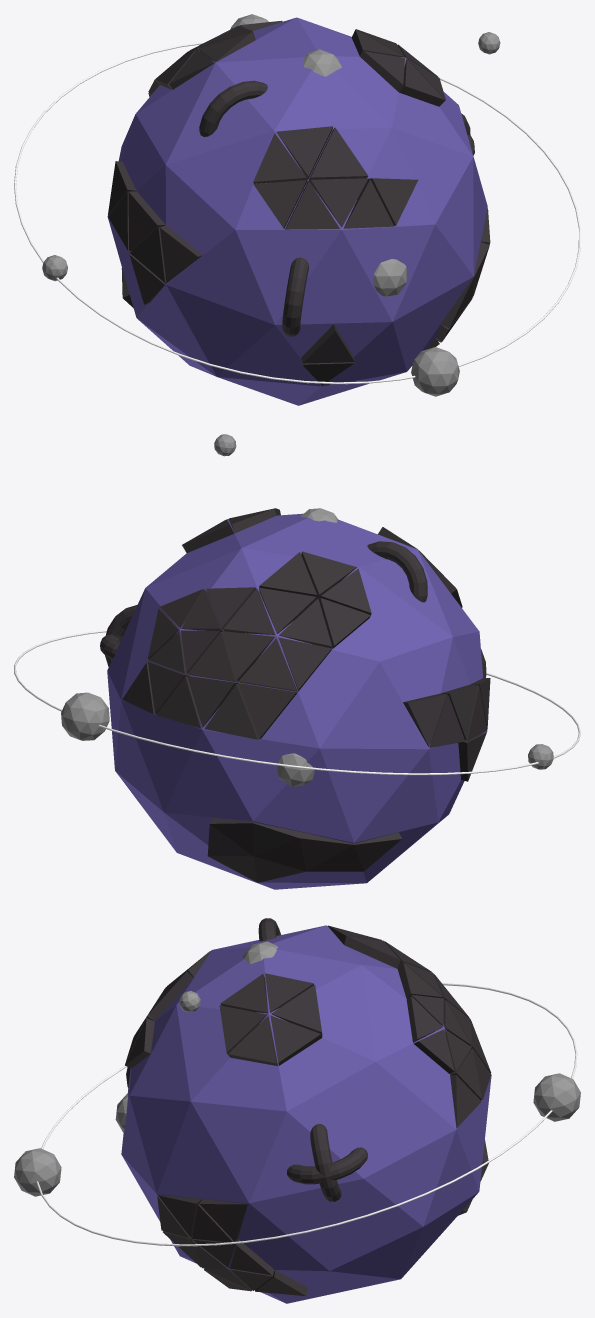
The model's file is purple_planet.gltf.
The picture shows the model from 3 angles, top to bottom: view 1: azimuth 30°, elevation 25°; view 2: azimuth 150°, elevation 25°; view 3: azimuth 270°, elevation 25°; orthographic projection. The views are drawn at different scales.
Visible parts, largest first — view 1: Icosphere.008, Icosphere, Torus.002, Icosphere.001, Torus.004, Torus.005, Icosphere.006, Icosphere.005, Icosphere.003; view 2: Icosphere.008, Icosphere, Torus.002, Icosphere.004, Torus.004, Icosphere.007, Torus.001; view 3: Icosphere.008, Icosphere, Torus.002, Icosphere.004, Icosphere.001, Torus.003, Torus.001, Icosphere.005.
Part boxes in pixels (x1=…): Icosphere.008: x1=107, y1=17, x2=487, y2=405; Icosphere: x1=108, y1=20, x2=490, y2=385; Torus.002: x1=14, y1=41, x2=580, y2=384; Icosphere.001: x1=411, y1=347, x2=459, y2=396; Torus.004: x1=199, y1=80, x2=267, y2=136; Torus.005: x1=282, y1=257, x2=308, y2=336; Icosphere.006: x1=373, y1=259, x2=407, y2=296; Icosphere.005: x1=303, y1=49, x2=341, y2=76; Icosphere.003: x1=42, y1=255, x2=67, y2=281; Icosphere.008: x1=107, y1=513, x2=487, y2=889; Icosphere: x1=122, y1=508, x2=490, y2=882; Torus.002: x1=14, y1=630, x2=580, y2=775; Icosphere.004: x1=61, y1=692, x2=109, y2=740; Torus.004: x1=367, y1=541, x2=427, y2=602; Icosphere.007: x1=277, y1=753, x2=314, y2=786; Torus.001: x1=105, y1=604, x2=137, y2=666; Icosphere.008: x1=121, y1=925, x2=491, y2=1303; Icosphere: x1=125, y1=925, x2=491, y2=1296; Torus.002: x1=36, y1=983, x2=577, y2=1246; Icosphere.004: x1=533, y1=1073, x2=580, y2=1121; Icosphere.001: x1=14, y1=1148, x2=61, y2=1196; Torus.003: x1=287, y1=1147, x2=367, y2=1184; Torus.001: x1=310, y1=1124, x2=341, y2=1201; Icosphere.005: x1=242, y1=941, x2=277, y2=964.
Bounding box in the file's own units: 3.16 × 2.18 × 3.18.
